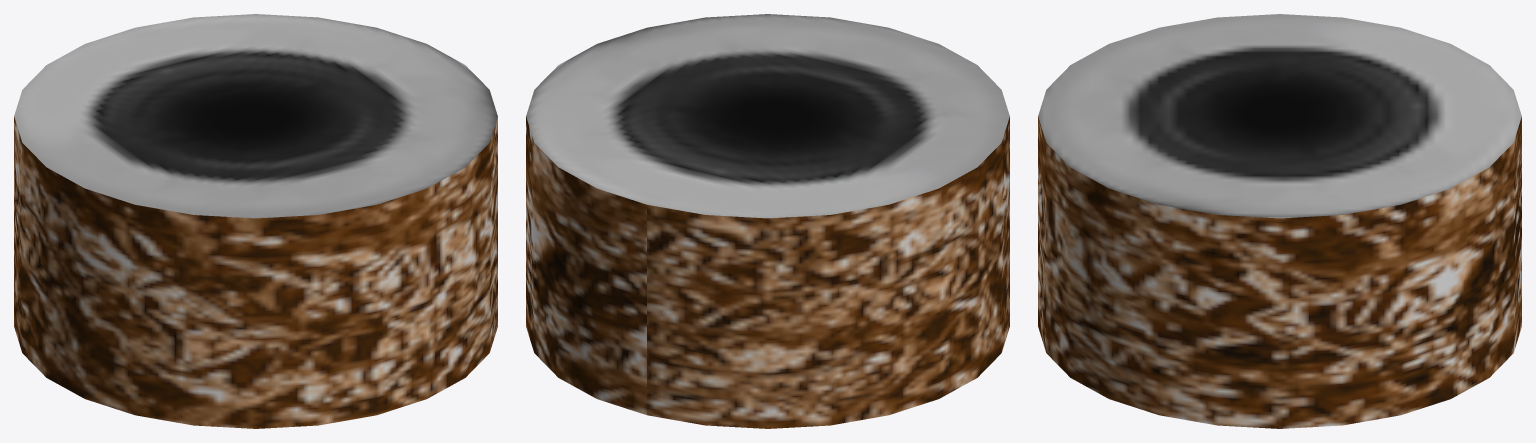
Rendered from fuelTank.DAE.
3 renders of one model, left to right at view 1: azimuth 30°, elevation 25°; view 2: azimuth 150°, elevation 25°; view 3: azimuth 270°, elevation 25°, orthographic.
Visible parts, largest first — view 1: Cylinder01-Pivot; view 2: Cylinder01-Pivot; view 3: Cylinder01-Pivot.
Part boxes in pixels (box(x1,y1,x2,y2)): Cylinder01-Pivot: box(14, 14, 497, 428); Cylinder01-Pivot: box(526, 14, 1009, 428); Cylinder01-Pivot: box(1038, 14, 1521, 428).
Size of what is drawn, in the model's own units: 0.5217 by 0.2505 by 0.5217.
